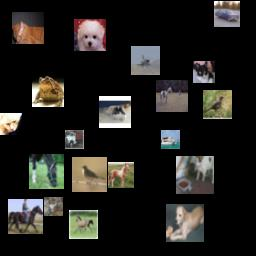airplane: (131, 46, 160, 75)
automobile: (214, 1, 240, 27)
bird: (72, 157, 107, 192), (203, 90, 232, 119)
cat: (176, 156, 214, 194), (12, 12, 44, 44), (193, 61, 215, 83), (0, 113, 22, 135), (44, 197, 63, 216)
dog: (166, 204, 204, 242), (74, 19, 106, 51), (99, 96, 131, 128)
frog: (32, 75, 64, 107)
ship: (161, 130, 180, 149)
truck: (65, 130, 84, 149)
